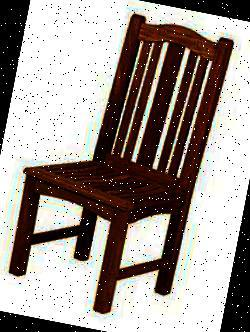Silla: (7, 2, 237, 323)
